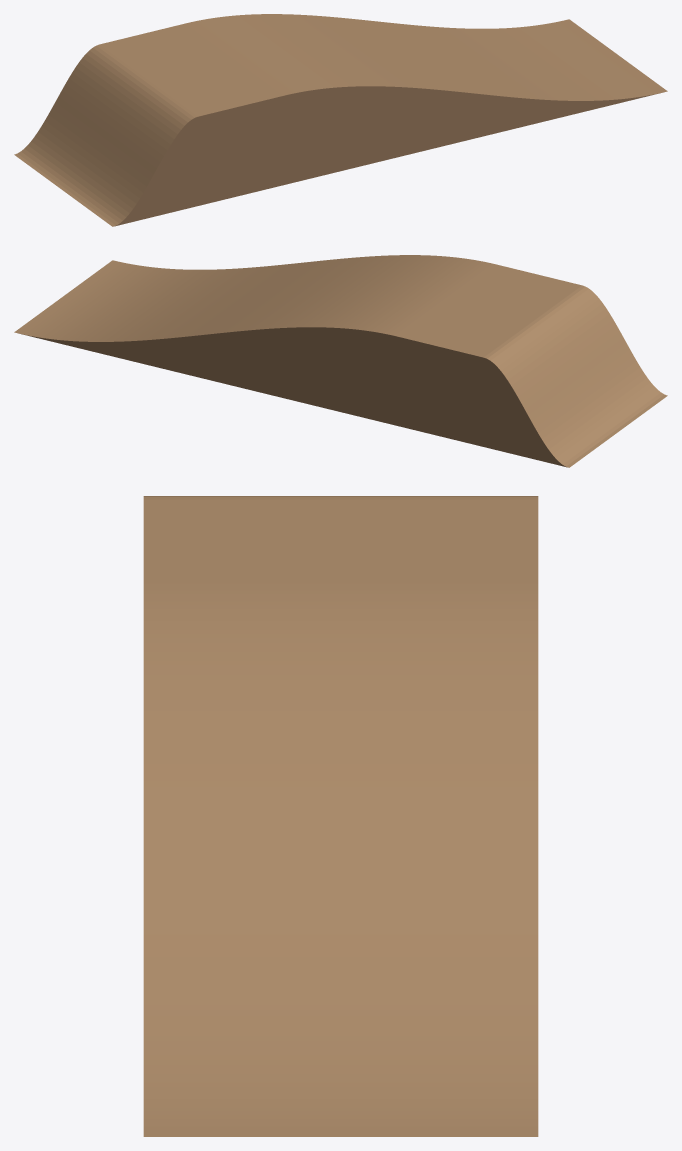
Rendered from SC_Prop_DoubleLanding.fbx.
3 views of the same model, one above another, from view 1: azimuth 30°, elevation 25°; view 2: azimuth 150°, elevation 25°; view 3: azimuth 270°, elevation 25° (orthographic). The views are drawn at different scales.
Parts seen in each view (by area): view 1: SC_Prop_DoubleLanding; view 2: SC_Prop_DoubleLanding; view 3: SC_Prop_DoubleLanding.
Part boxes in pixels (x1,y1,x2,y2): SC_Prop_DoubleLanding: (14, 14, 667, 226); SC_Prop_DoubleLanding: (14, 255, 667, 467); SC_Prop_DoubleLanding: (143, 496, 538, 1136).
Bounding box in the file's own units: 6.5 × 1 × 2.
